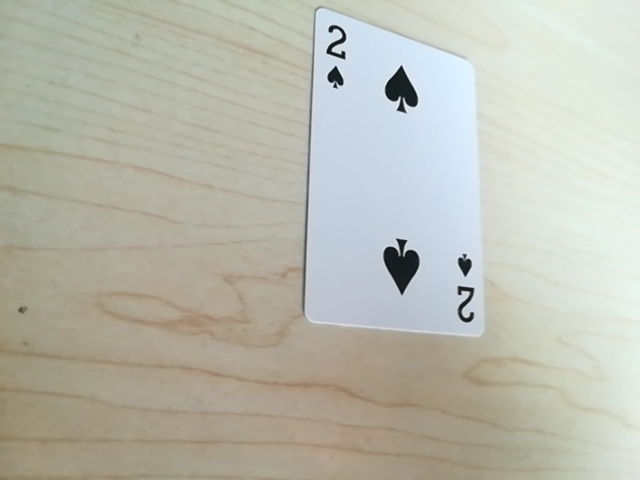ht 2: (314, 13, 359, 104), (447, 246, 480, 334)
